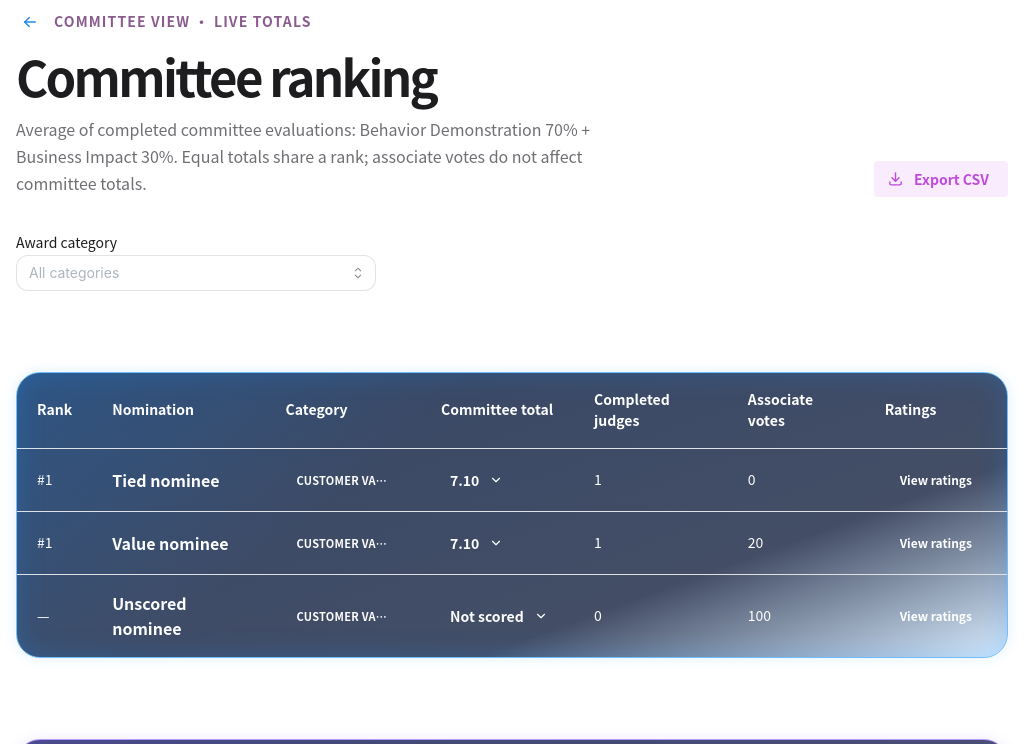
Scenario: shows detail loading errors without hiding the ranking
Click the button "7.10" in the row of "Value nominee": (475, 543) [441,530,510,556]
(page scrolled)
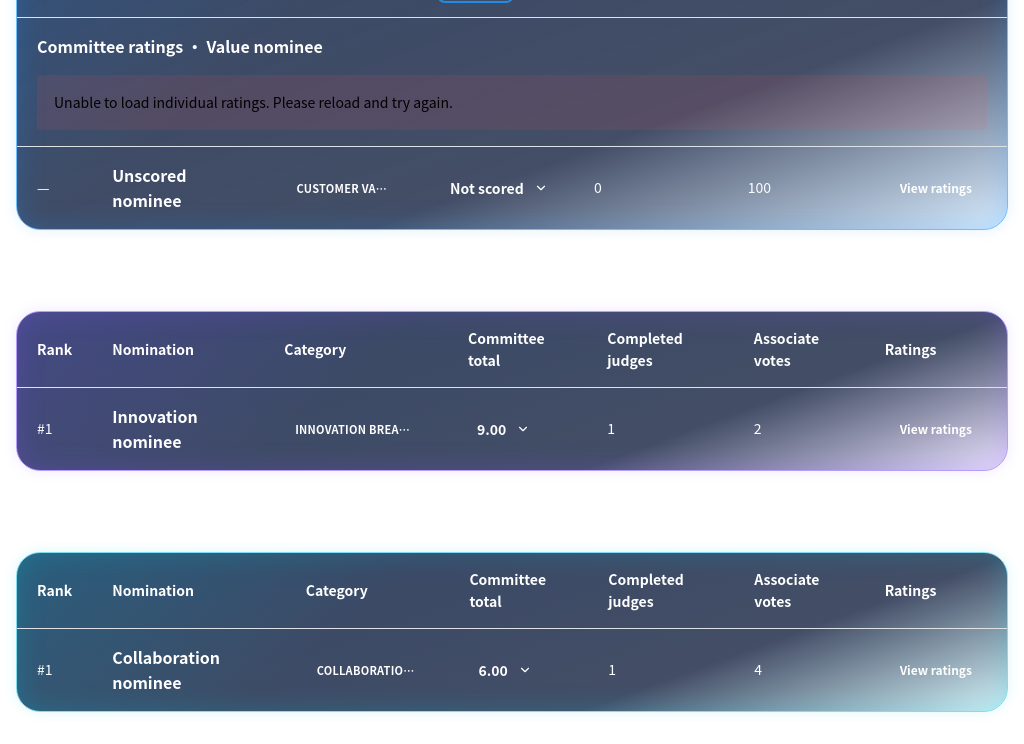
Expected: the element "Innovation Breakthrough" is shown, [16,262,1008,471]
Expected: the message shows "Unable to load individual ratings", [54,92,453,112]
